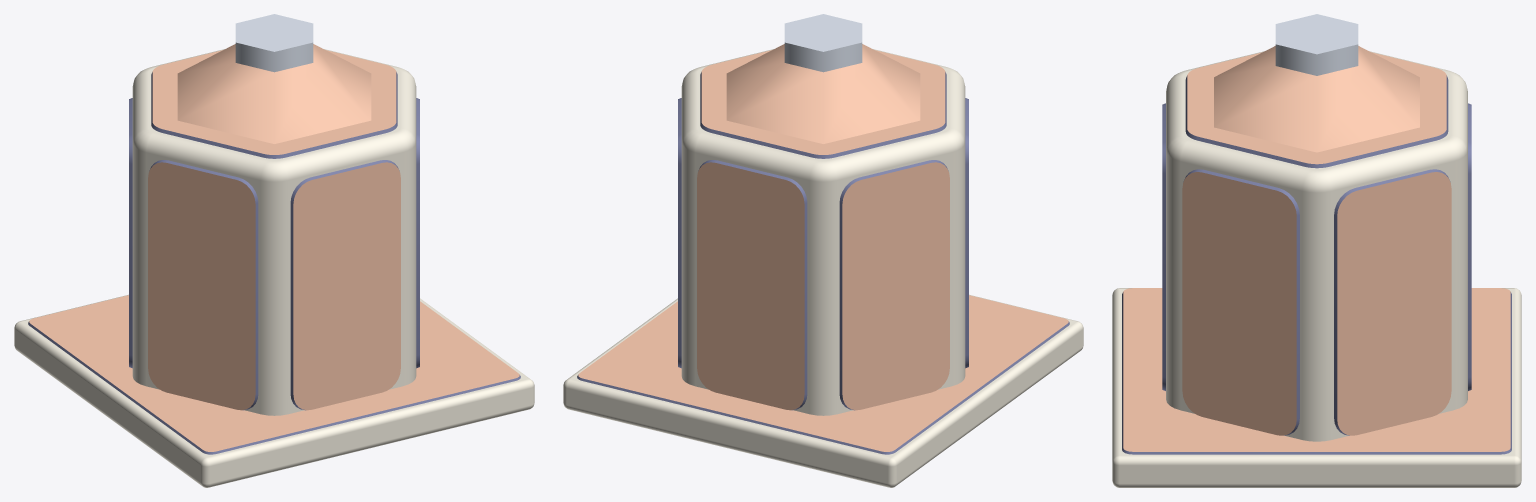
Rendered from R4X_ChargeCapacity.fbx.
3 views of the same model, side by side, from view 1: azimuth 30°, elevation 25°; view 2: azimuth 150°, elevation 25°; view 3: azimuth 270°, elevation 25° (orthographic). The views are drawn at different scales.
Parts seen in each view (by area): view 1: R4X_ChargeCapacity_Body; view 2: R4X_ChargeCapacity_Body; view 3: R4X_ChargeCapacity_Body.
Part boxes in pixels (x1=…): R4X_ChargeCapacity_Body: x1=14, y1=14, x2=534, y2=487; R4X_ChargeCapacity_Body: x1=563, y1=14, x2=1083, y2=487; R4X_ChargeCapacity_Body: x1=1112, y1=14, x2=1521, y2=487.
Size of the model in its own units: 0.514 by 0.515 by 0.514.
